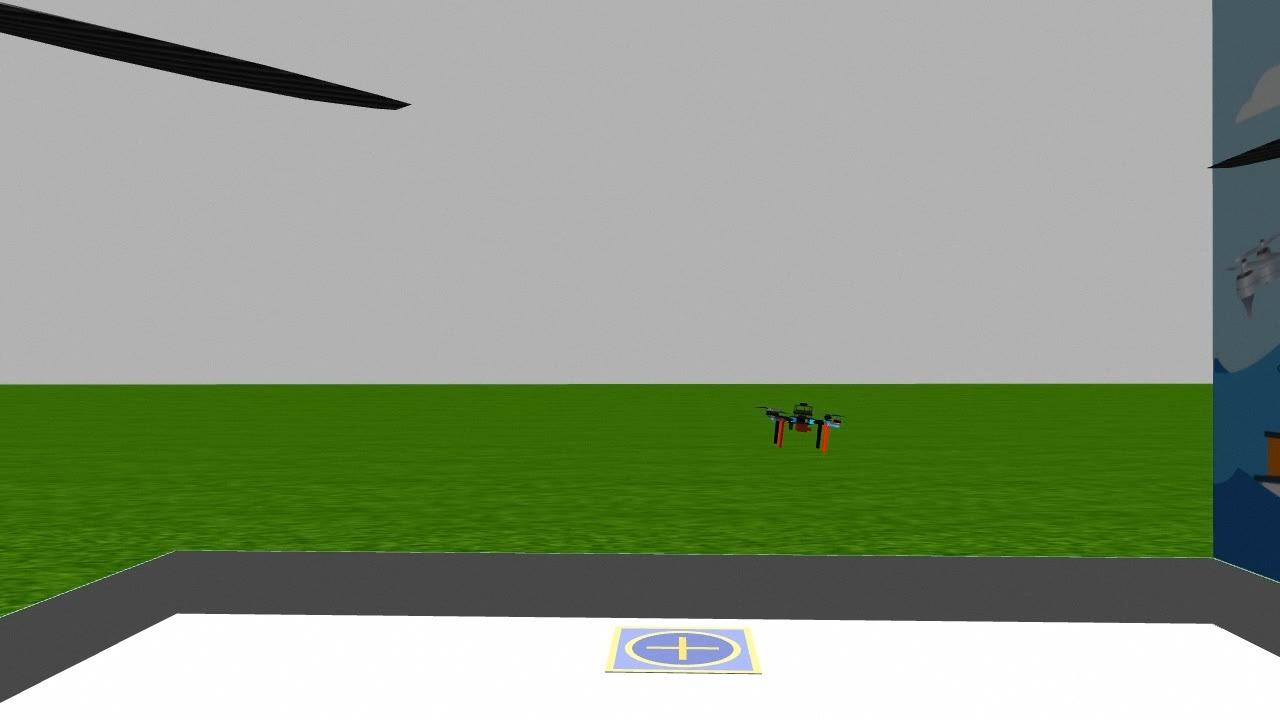UAV: (759, 396, 849, 456)
